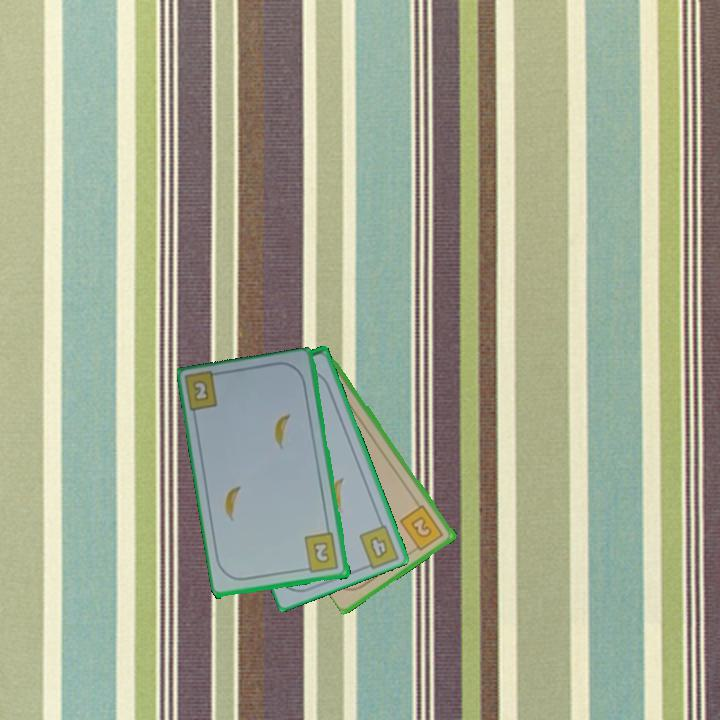2b: (397, 502, 447, 555), (300, 530, 342, 576), (189, 377, 212, 405)
4b: (366, 533, 391, 562)
